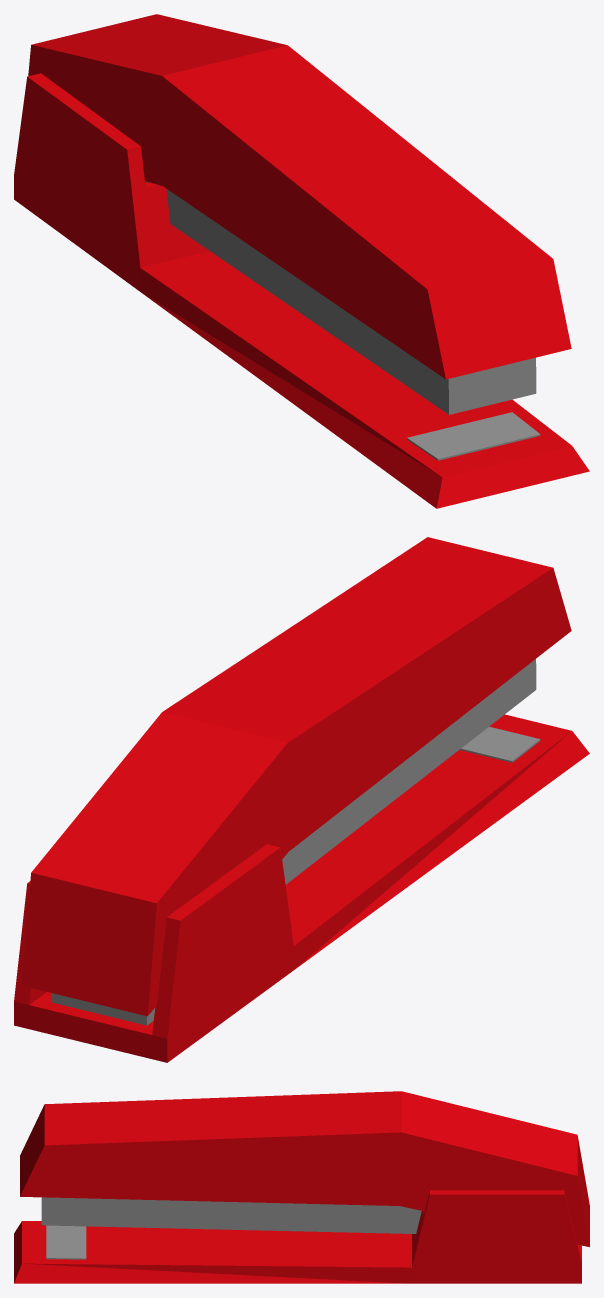
Rendered from Stapler.fbx.
3 views of the same model, one above another, from view 1: azimuth 30°, elevation 25°; view 2: azimuth 150°, elevation 25°; view 3: azimuth 270°, elevation 25° (orthographic). The views are drawn at different scales.
Parts seen in each view (by area): view 1: Cube; view 2: Cube; view 3: Cube.
Part boxes in pixels (x1,y1,x2,y2): Cube: [14, 14, 589, 508]; Cube: [14, 537, 589, 1062]; Cube: [14, 1091, 589, 1283].
Bounding box in the file's own units: 128 × 174 × 618.
